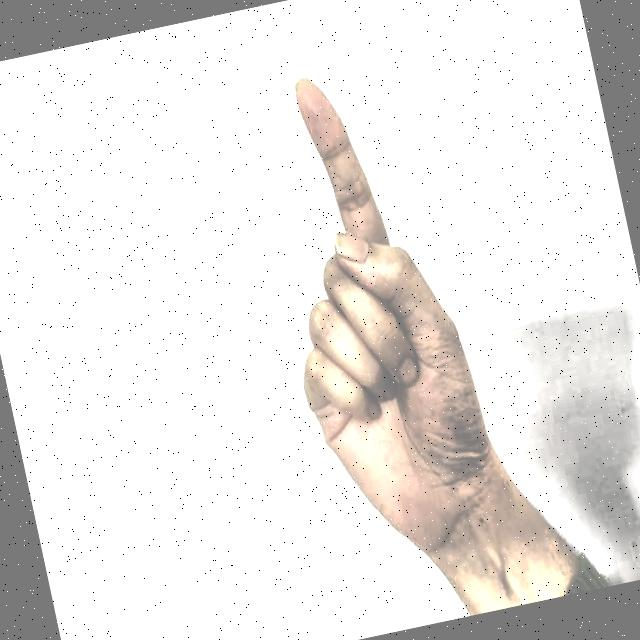U: (200, 14, 556, 568)
